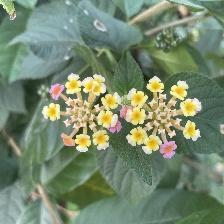common lanthana: (125, 76, 205, 160), (41, 76, 123, 152)
